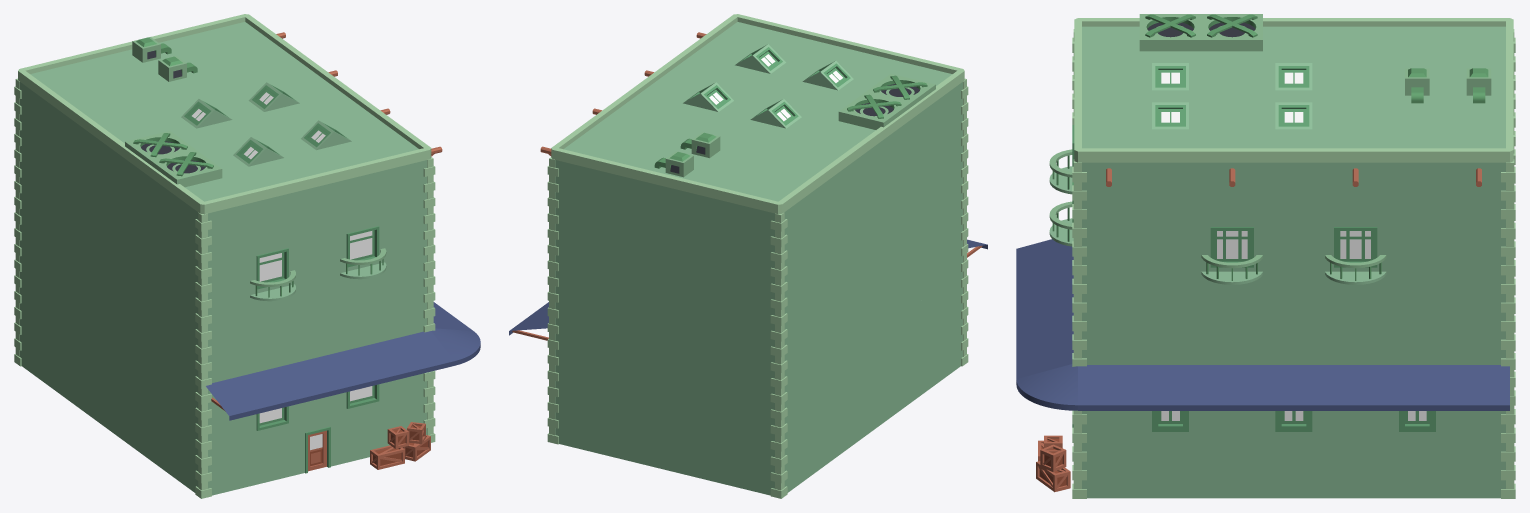
The model's file is SideHouse.fbx.
3 renders of one model, left to right at view 1: azimuth 30°, elevation 25°; view 2: azimuth 150°, elevation 25°; view 3: azimuth 270°, elevation 25°, orthographic. The views are drawn at different scales.
Visible parts, largest first — view 1: mergedBlocks; view 2: mergedBlocks; view 3: mergedBlocks.
Part boxes in pixels (x1,y1,x2,y2): mergedBlocks: (14,14,480,498); mergedBlocks: (509,14,987,498); mergedBlocks: (1016,14,1515,498).
Size of the model in its own units: 60.93 by 64.5 by 80.93.
